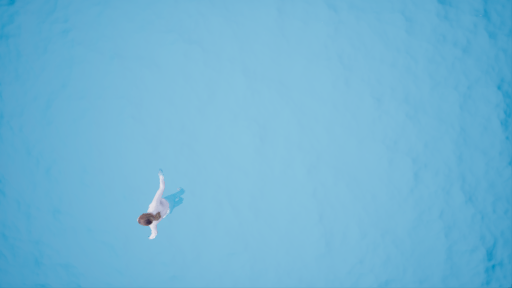person: (126, 166, 192, 236)
